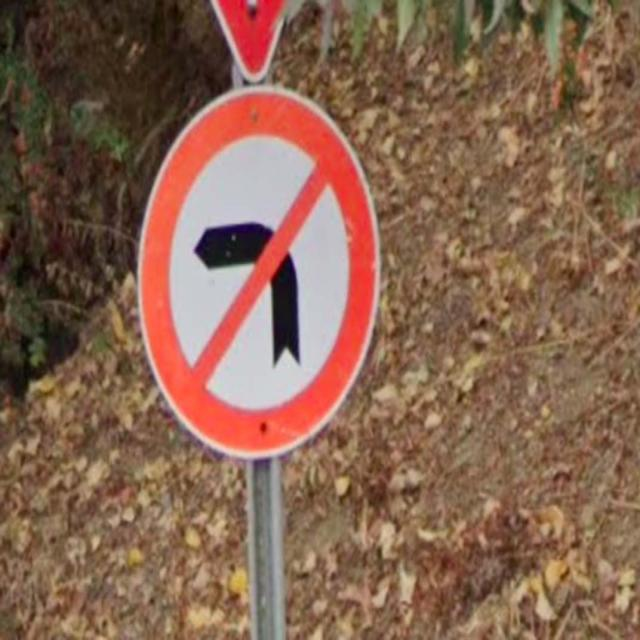soladonulmez: (136, 84, 380, 457)
